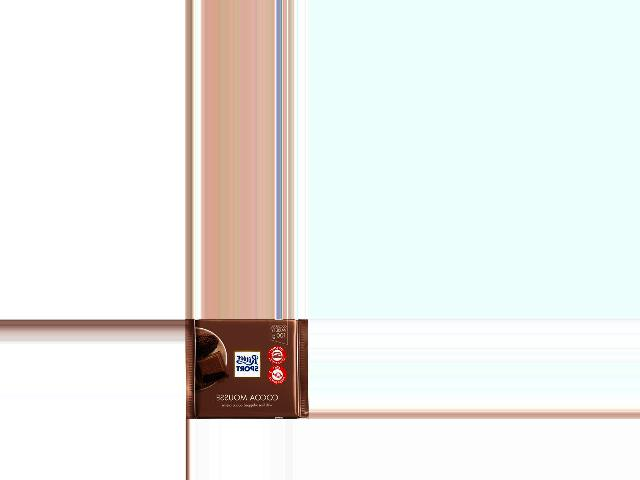chocolate: (185, 319, 306, 420)
